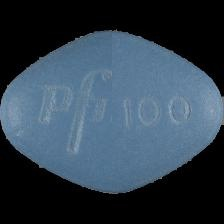52125-494: (0, 0, 224, 224)
